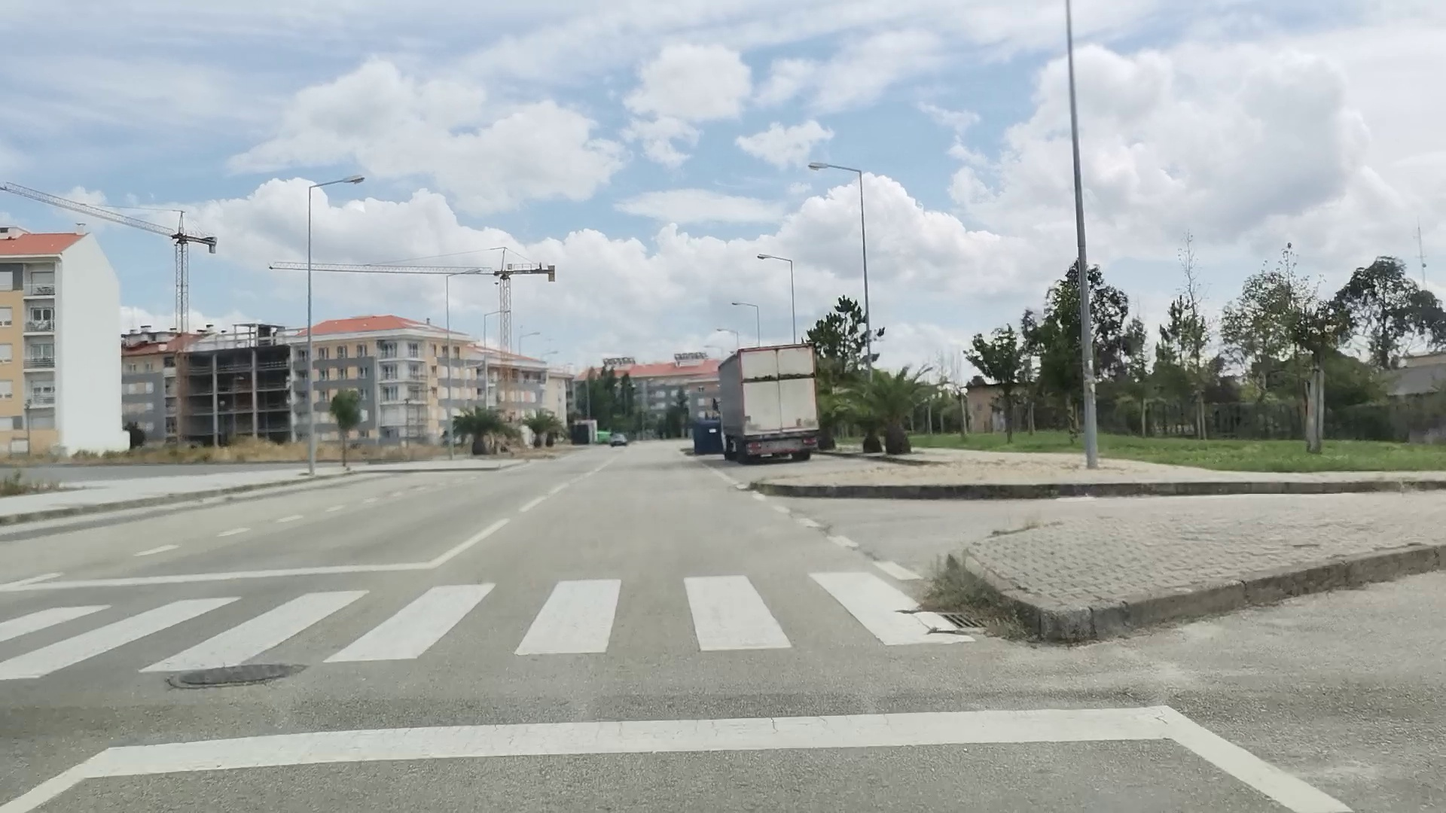Stairs: (0, 576, 974, 683)
